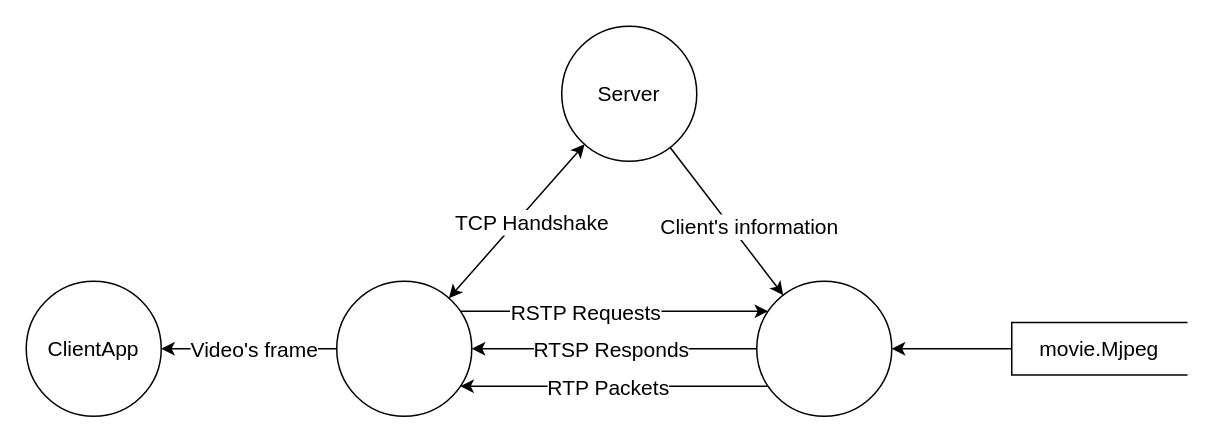
The diagram is 1214 pixels wide and 443 high, and some of its shapes have lost their labels. The centre of each missing label's shape, as x and y in pixels:
"Client" goes at point (403, 348).
"SeverWorker" goes at point (823, 348).
